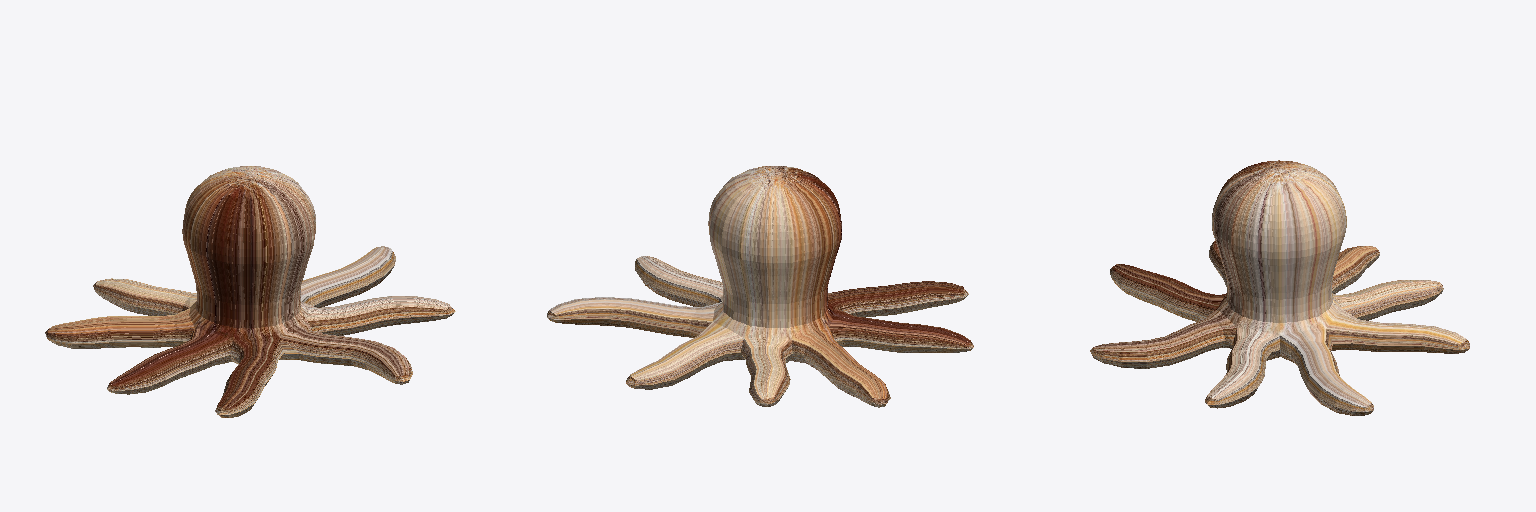
3 views of the same model, side by side, from view 1: azimuth 30°, elevation 25°; view 2: azimuth 150°, elevation 25°; view 3: azimuth 270°, elevation 25° (orthographic).
Parts seen in each view (by area): view 1: Cylinder; view 2: Cylinder; view 3: Cylinder.
Part boxes in pixels (bbox=[...]): Cylinder: bbox=[45, 166, 455, 417]; Cylinder: bbox=[547, 166, 973, 407]; Cylinder: bbox=[1090, 160, 1469, 415].
Bounding box in the file's own units: 11.99 × 5.38 × 11.11.
Materials: 1 (1 with a texture image).